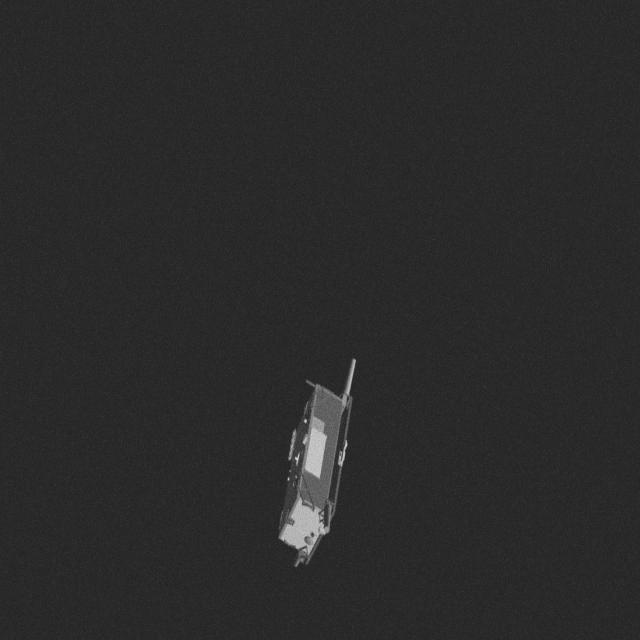satellite: (270, 354, 366, 572)
